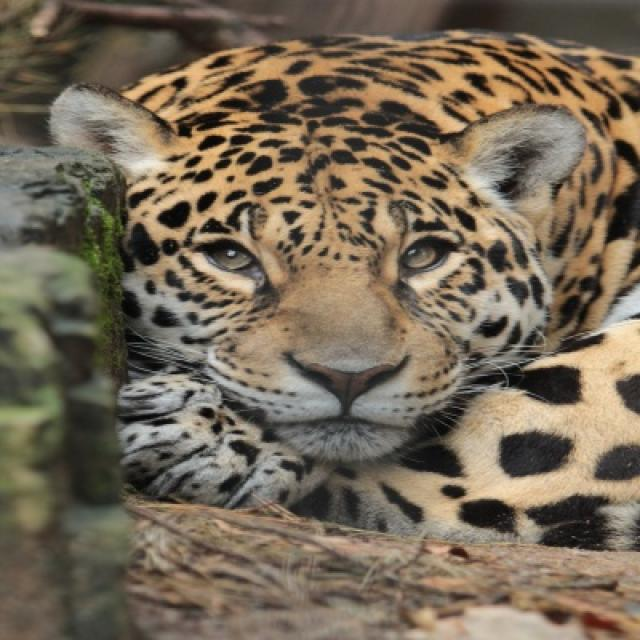Jaguar: (50, 30, 638, 557)
